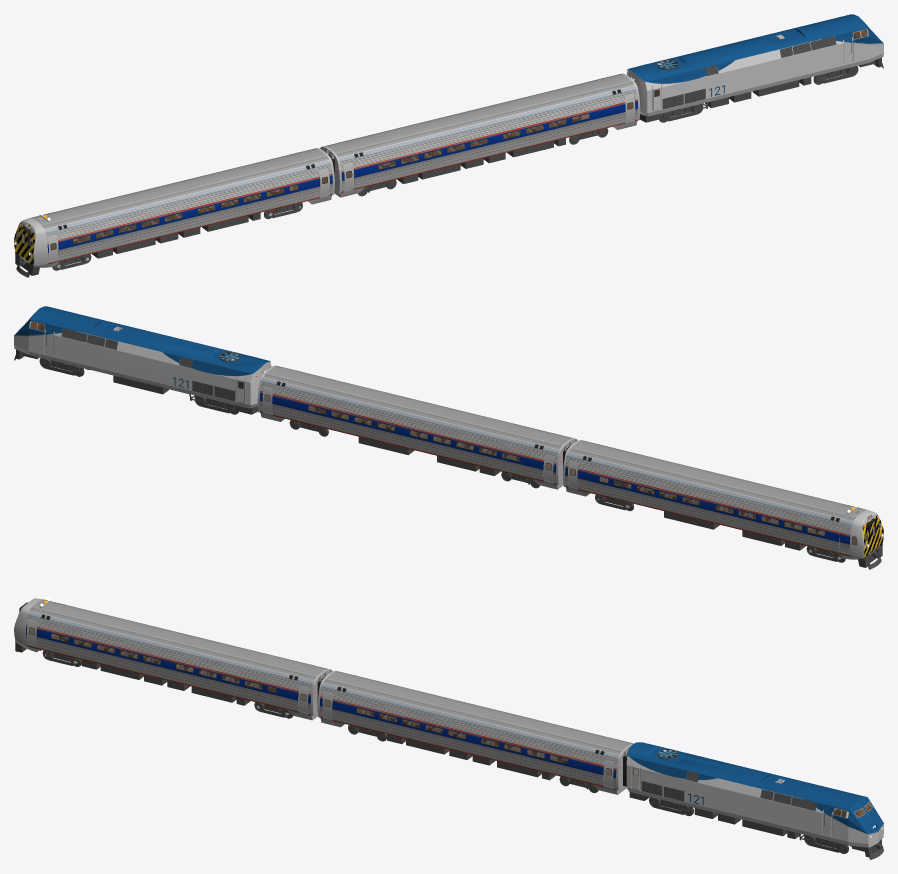
The model's file is genesis.glb.
The picture shows the model from 3 angles, top to bottom: view 1: azimuth 30°, elevation 25°; view 2: azimuth 150°, elevation 25°; view 3: azimuth 330°, elevation 25°; orthographic projection.
Parts seen in each view (by area): view 1: carriage.001, carriage, loco, Cube.002, Cube.004, Cube.025, Cube.032, Cube.016, Cube.018; view 2: carriage.001, carriage, loco, Cube.002, Cube.004, Cube.032, Cube.025, Cube.016, Cube.018; view 3: carriage, carriage.001, loco, Cube.002, Cube.004, Cube.025, Cube.032, Cube.018, Cube.016.
Part boxes in pixels (x1=…): carriage.001: x1=14, y1=148, x2=334, y2=267; carriage: x1=320, y1=73, x2=640, y2=197; loco: x1=626, y1=14, x2=883, y2=116; Cube.002: x1=62, y1=203, x2=300, y2=266; Cube.004: x1=367, y1=128, x2=605, y2=192; Cube.025: x1=639, y1=74, x2=826, y2=122; Cube.032: x1=662, y1=36, x2=836, y2=109; Cube.016: x1=378, y1=116, x2=578, y2=169; Cube.018: x1=73, y1=189, x2=279, y2=243; carriage.001: x1=563, y1=440, x2=883, y2=559; carriage: x1=257, y1=365, x2=577, y2=489; loco: x1=14, y1=306, x2=271, y2=408; Cube.002: x1=597, y1=495, x2=835, y2=558; Cube.004: x1=292, y1=420, x2=530, y2=484; Cube.032: x1=61, y1=328, x2=235, y2=401; Cube.025: x1=71, y1=366, x2=258, y2=414; Cube.016: x1=309, y1=406, x2=519, y2=461; Cube.018: x1=604, y1=478, x2=824, y2=535; carriage: x1=317, y1=670, x2=633, y2=794; carriage.001: x1=14, y1=598, x2=332, y2=720; loco: x1=626, y1=742, x2=883, y2=847; Cube.002: x1=45, y1=651, x2=283, y2=714; Cube.004: x1=350, y1=725, x2=588, y2=789; Cube.025: x1=629, y1=791, x2=809, y2=840; Cube.032: x1=641, y1=771, x2=816, y2=810; Cube.018: x1=51, y1=634, x2=271, y2=690; Cube.016: x1=361, y1=710, x2=567, y2=763.
Bounding box in the file's own units: 72.84 × 4.35 × 3.41.
18 materials, 5 textured.
